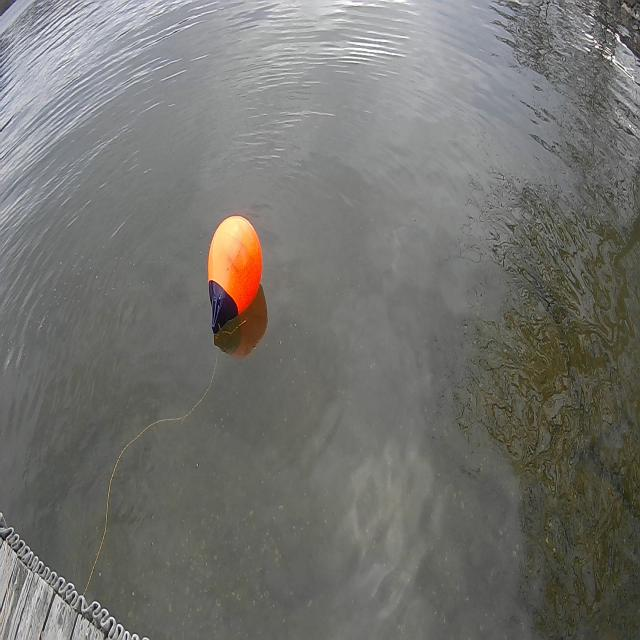Buoy: (200, 213, 266, 335)
